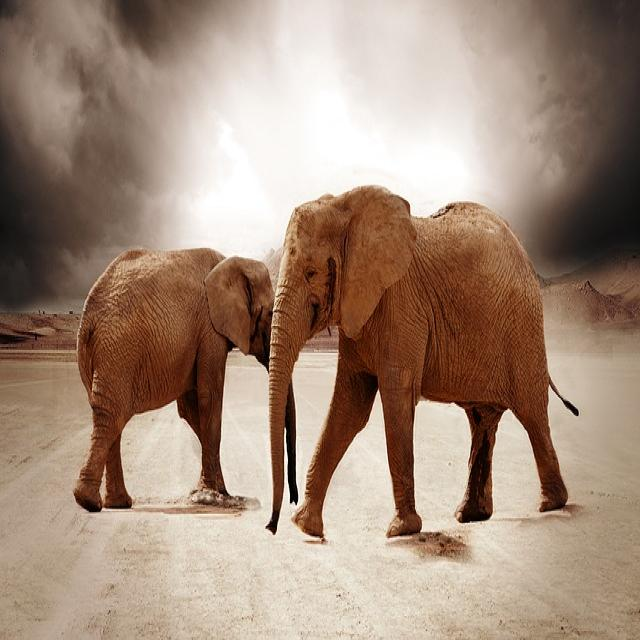elephant: (269, 186, 568, 536), (74, 248, 274, 510)
